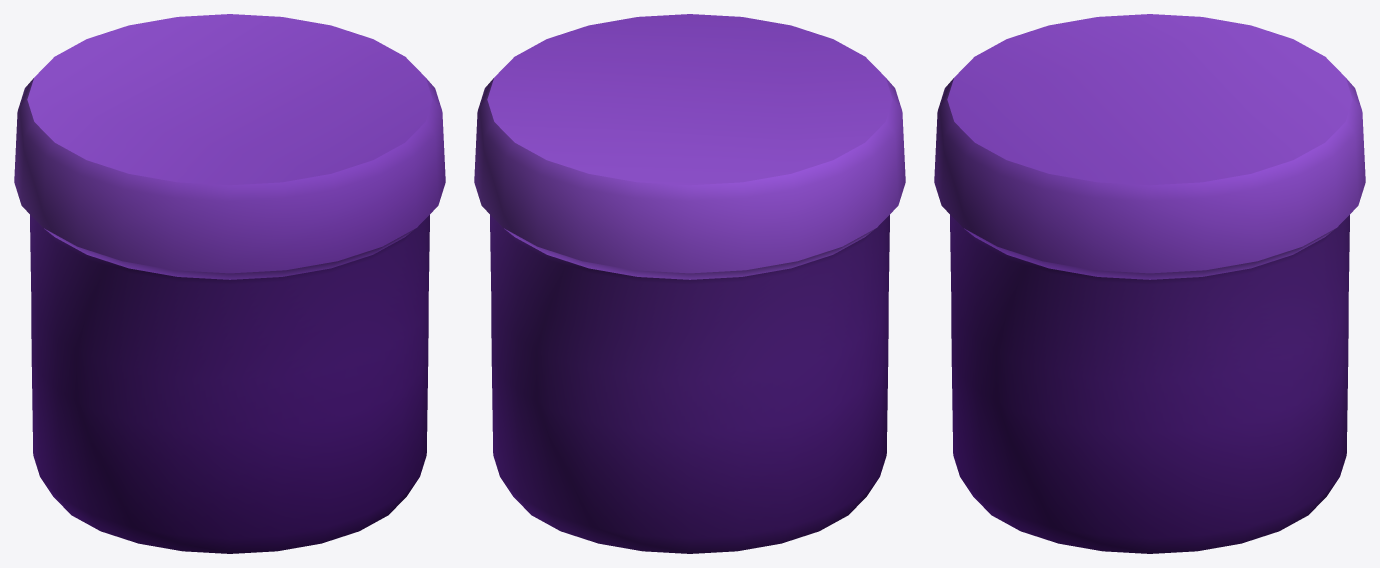
File: Kitchen Pot_2.glb
The picture shows the model from 3 angles, left to right: view 1: azimuth 30°, elevation 25°; view 2: azimuth 150°, elevation 25°; view 3: azimuth 270°, elevation 25°; orthographic projection.
Visible parts, largest first — view 1: Kitchen Pot_2, Kitchen Pot_2 Top; view 2: Kitchen Pot_2, Kitchen Pot_2 Top; view 3: Kitchen Pot_2, Kitchen Pot_2 Top.
Boxes of the visible parts, x1,y1,x2,y2 form: Kitchen Pot_2: [30, 215, 429, 553]; Kitchen Pot_2 Top: [14, 14, 445, 279]; Kitchen Pot_2: [490, 215, 889, 553]; Kitchen Pot_2 Top: [474, 14, 905, 279]; Kitchen Pot_2: [950, 215, 1349, 553]; Kitchen Pot_2 Top: [934, 14, 1365, 279].
Bounding box in the file's own units: 0.1482 × 0.1429 × 0.1482.
1 material, 1 textured.
